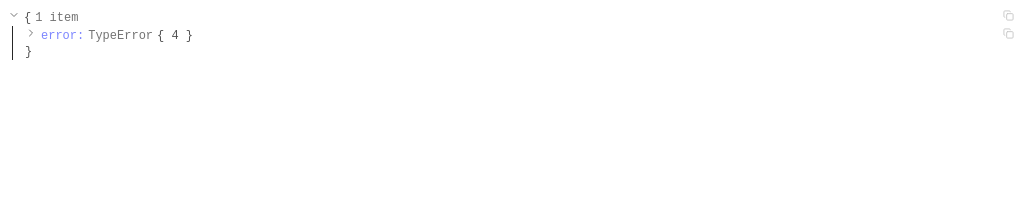
Test: JsonTree › renders an Error's non-enumerable fields instead of an empty object
The image size is (1024, 197).
Click the button "error: TypeError { 4 }". click: (109, 35)
box: [25,27,193,43]
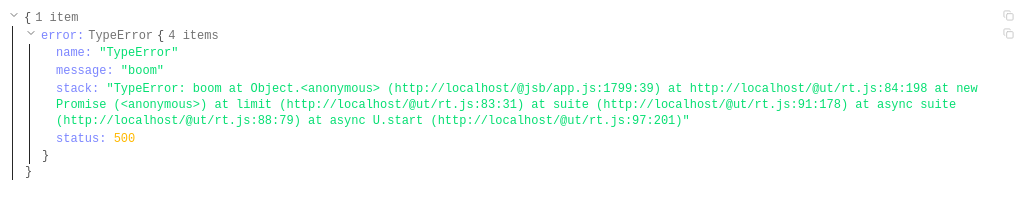
Result: the text "\"boom\"" is shown at [121,64,164,78]
Result: the text "\"TypeError\"" is shown at [99,46,178,60]
Result: the text "500" is shown at [114,132,135,146]
